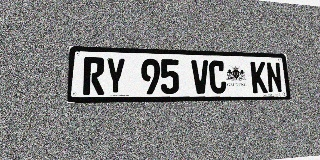5: (161, 59, 180, 94)
9: (141, 58, 161, 94)
C: (209, 60, 227, 94)
K: (250, 61, 268, 93)
N: (266, 62, 283, 93)
R: (83, 57, 105, 95)
V: (191, 60, 210, 94)
Y: (105, 57, 126, 95)
